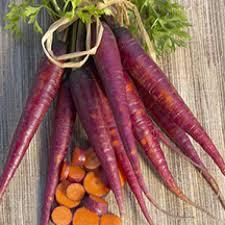Organic: (2, 1, 225, 225)
